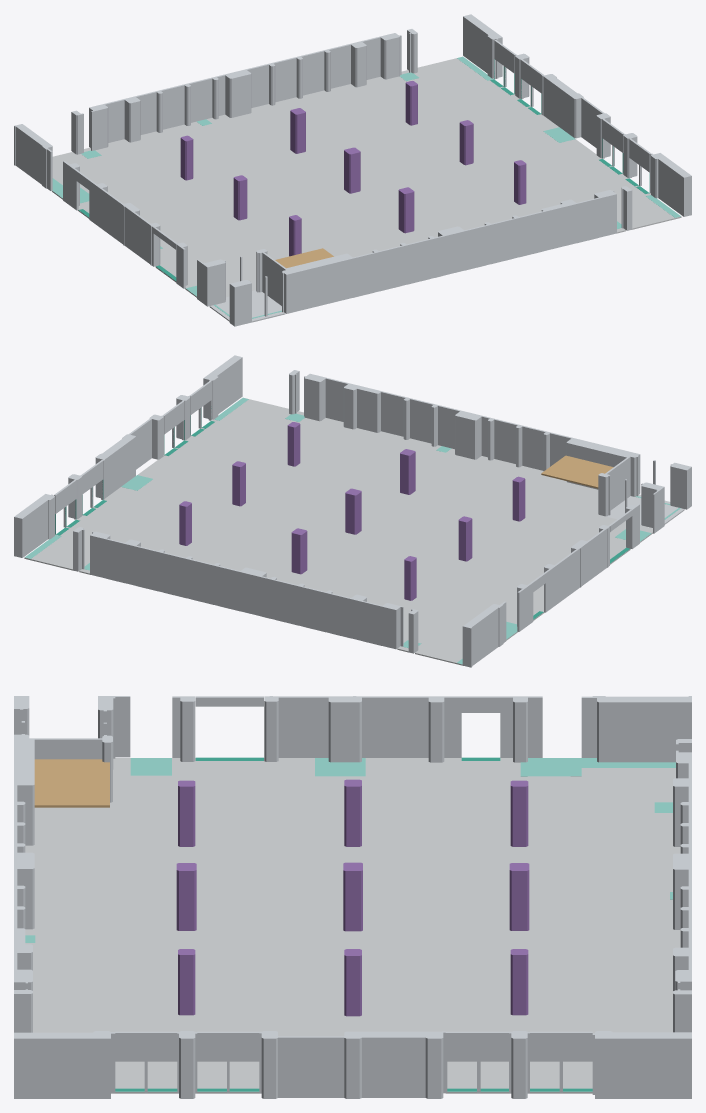
File: JRRF_PDF_venue.glb
3 renders of one model, top to bottom at view 1: azimuth 30°, elevation 25°; view 2: azimuth 150°, elevation 25°; view 3: azimuth 270°, elevation 25°, orthographic. The views are drawn at different scales.
Visible parts, largest first — view 1: Main_hall_01, PDF_wall_11, PDF_wall_10, PDF_wall_17, PDF_wall_06, PDF_wall_01, PDF_wall_18, PDF_wall_02, PDF_wall_15, PDF_wall_16, SW_access_alcove_01, PDF_wall_09 (+15 smaller); view 2: Main_hall_01, PDF_wall_10, PDF_wall_11, PDF_wall_17, PDF_wall_06, PDF_wall_18, PDF_wall_02, PDF_wall_01, SW_lowered_ceiling, PDF_wall_15, PDF_wall_09, PDF_wall_16 (+15 smaller); view 3: Main_hall_01, PDF_wall_17, PDF_wall_06, PDF_wall_18, PDF_wall_01, PDF_wall_02, PDF_wall_11, PDF_wall_10, SW_lowered_ceiling, PDF_wall_19, East_S2_header, East_N2_header (+23 smaller).
Part boxes in pixels (x1=…): Main_hall_01: x1=52, y1=58, x2=681, y2=297; PDF_wall_11: x1=256, y1=197, x2=599, y2=313; PDF_wall_10: x1=89, y1=33, x2=401, y2=150; PDF_wall_17: x1=89, y1=180, x2=160, y2=266; PDF_wall_06: x1=541, y1=74, x2=604, y2=147; PDF_wall_01: x1=650, y1=153, x2=691, y2=216; PDF_wall_18: x1=14, y1=124, x2=52, y2=190; PDF_wall_02: x1=463, y1=14, x2=502, y2=78; PDF_wall_15: x1=197, y1=259, x2=225, y2=306; PDF_wall_16: x1=229, y1=280, x2=251, y2=326; SW_access_alcove_01: x1=209, y1=290, x2=285, y2=322; PDF_wall_09: x1=594, y1=190, x2=616, y2=237; Main_hall_01: x1=24, y1=397, x2=652, y2=665; PDF_wall_10: x1=90, y1=531, x2=403, y2=649; PDF_wall_11: x1=325, y1=378, x2=640, y2=516; PDF_wall_17: x1=544, y1=525, x2=609, y2=612; PDF_wall_06: x1=95, y1=418, x2=151, y2=499; PDF_wall_18: x1=462, y1=601, x2=506, y2=667; PDF_wall_02: x1=14, y1=494, x2=54, y2=557; PDF_wall_01: x1=203, y1=355, x2=242, y2=419; SW_lowered_ceiling: x1=541, y1=455, x2=613, y2=488; PDF_wall_15: x1=641, y1=482, x2=664, y2=533; PDF_wall_09: x1=304, y1=373, x2=326, y2=421; PDF_wall_16: x1=670, y1=462, x2=691, y2=509; Main_hall_01: x1=25, y1=758, x2=680, y2=1093; PDF_wall_17: x1=264, y1=696, x2=461, y2=762; PDF_wall_06: x1=278, y1=1031, x2=445, y2=1098; PDF_wall_18: x1=581, y1=696, x2=691, y2=762; PDF_wall_01: x1=14, y1=1031, x2=115, y2=1098; PDF_wall_02: x1=592, y1=1031, x2=691, y2=1098; PDF_wall_11: x1=14, y1=734, x2=112, y2=970; PDF_wall_10: x1=673, y1=750, x2=691, y2=990; SW_lowered_ceiling: x1=34, y1=759, x2=109, y2=807; PDF_wall_19: x1=500, y1=696, x2=542, y2=762; East_S2_header: x1=115, y1=1031, x2=177, y2=1061; East_N2_header: x1=445, y1=1031, x2=511, y2=1061.
Bounding box in the file's own units: 48.77 × 4.12 × 40.78.
